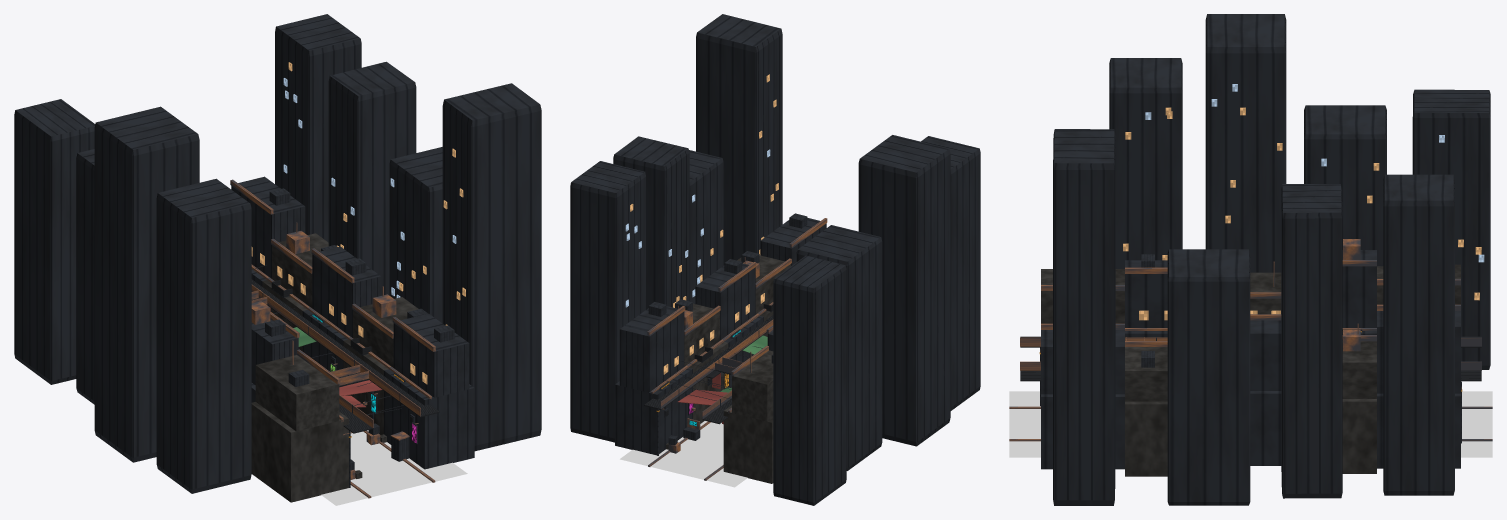
The model's file is Hesperus_Market2_Street_gallery.glb.
3 renders of one model, left to right at view 1: azimuth 30°, elevation 25°; view 2: azimuth 150°, elevation 25°; view 3: azimuth 270°, elevation 25°, orthographic. The views are drawn at different scales.
Parts seen in each view (by area): view 1: Tower_7, Tower_1, Tower_3, Tower_8, Tower_9, Tower_6, Tower_5, Fc-1_0_MassA, Fc1_1_MassA, Tower_2, Fc-1_0_MassB, Fc1_1_MassB (+10 smaller); view 2: Tower_3, Tower_8, Tower_7, Tower_6, Tower_2, Tower_1, Tower_9, Fc1_5_MassB, Tower_5, Fc1_5_MassA, Fc-1_4_MassA, Fc1_3_MassB (+10 smaller); view 3: Tower_7, Tower_6, Tower_5, Tower_3, Tower_9, Tower_1, Tower_8, Tower_2, GAL_Paver_Floor, Fc1_2_MassA, Fc1_4_MassA, Fc-1_1_MassB (+12 smaller).
Part boxes in pixels (x1=…): Tower_7: x1=442, y1=83, x2=541, y2=451; Tower_1: x1=156, y1=178, x2=251, y2=493; Tower_3: x1=94, y1=106, x2=199, y2=462; Tower_8: x1=14, y1=99, x2=95, y2=384; Tower_9: x1=328, y1=61, x2=416, y2=295; Tower_6: x1=275, y1=14, x2=361, y2=242; Tower_5: x1=389, y1=147, x2=442, y2=323; Fc-1_0_MassA: x1=251, y1=402, x2=348, y2=502; Fc1_1_MassA: x1=384, y1=369, x2=474, y2=469; Tower_2: x1=76, y1=149, x2=94, y2=404; Fc-1_0_MassB: x1=255, y1=355, x2=339, y2=431; Fc1_1_MassB: x1=393, y1=313, x2=469, y2=397; Tower_3: x1=858, y1=135, x2=950, y2=446; Tower_8: x1=773, y1=255, x2=846, y2=505; Tower_7: x1=696, y1=14, x2=782, y2=265; Tower_6: x1=570, y1=161, x2=645, y2=442; Tower_2: x1=796, y1=225, x2=882, y2=470; Tower_1: x1=921, y1=136, x2=980, y2=410; Tower_9: x1=613, y1=136, x2=689, y2=309; Fc1_5_MassB: x1=619, y1=306, x2=684, y2=392; Tower_5: x1=689, y1=150, x2=723, y2=303; Fc1_5_MassA: x1=615, y1=368, x2=692, y2=455; Fc-1_4_MassA: x1=723, y1=405, x2=773, y2=483; Fc1_3_MassB: x1=695, y1=263, x2=755, y2=340; Tower_7: x1=1053, y1=129, x2=1115, y2=505; Tower_6: x1=1383, y1=174, x2=1454, y2=495; Tower_5: x1=1167, y1=249, x2=1250, y2=505; Tower_3: x1=1205, y1=14, x2=1286, y2=272; Tower_9: x1=1281, y1=184, x2=1342, y2=498; Tower_1: x1=1109, y1=58, x2=1182, y2=268; Tower_8: x1=1412, y1=89, x2=1490, y2=369; Tower_2: x1=1304, y1=105, x2=1386, y2=266; GAL_Paver_Floor: x1=1009, y1=391, x2=1492, y2=457; Fc1_2_MassA: x1=1125, y1=401, x2=1167, y2=476; Fc1_4_MassA: x1=1342, y1=399, x2=1376, y2=473; Fc-1_1_MassB: x1=1125, y1=260, x2=1167, y2=327.
Size of the model in its own units: 38.21 by 36 by 46.
15 materials, 12 textured.
